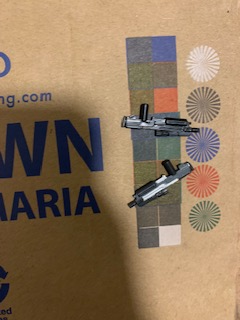rifle: (123, 157, 194, 209), (118, 101, 201, 144)
